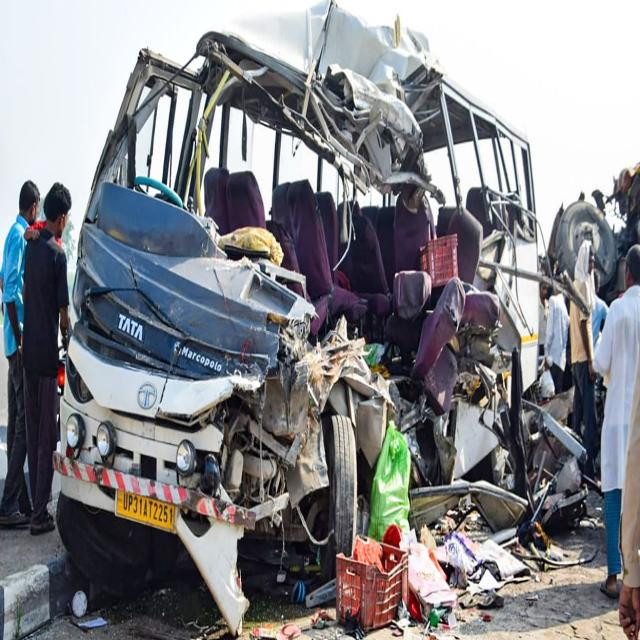accident: (56, 0, 552, 632)
